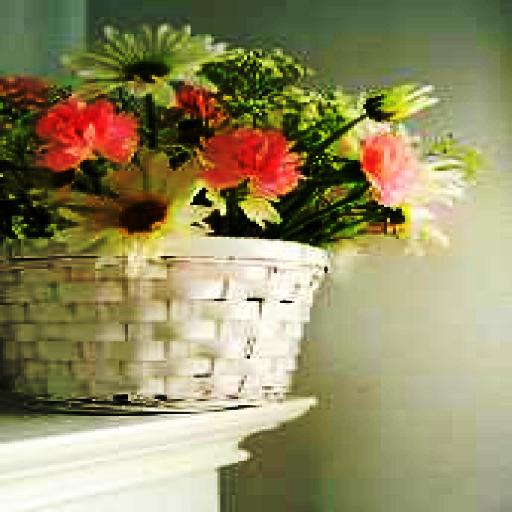daisy: (72, 160, 196, 254), (66, 24, 212, 88), (357, 81, 438, 124)
